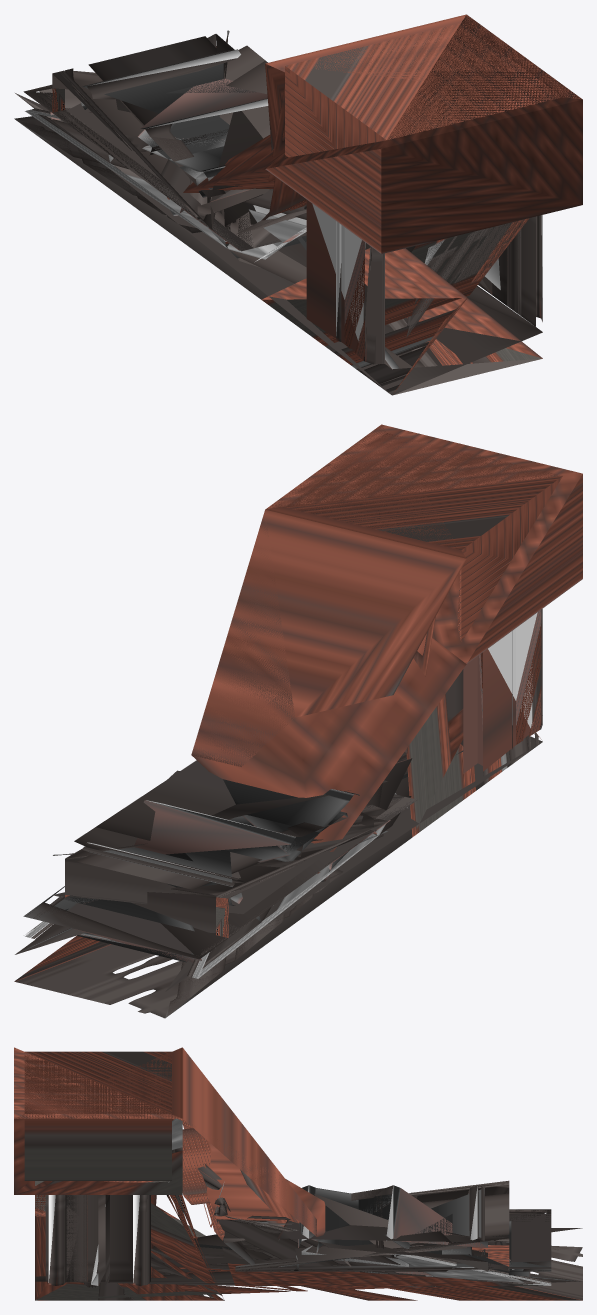
File: strand_caster_base.obj
3 renders of one model, top to bottom at view 1: azimuth 30°, elevation 25°; view 2: azimuth 150°, elevation 25°; view 3: azimuth 270°, elevation 25°, orthographic. The views are drawn at different scales.
Parts seen in each view (by area): view 1: caster; view 2: caster; view 3: caster.
Part boxes in pixels (<box>): caster: <box>14,14,582,395</box>; caster: <box>14,424,582,1018</box>; caster: <box>14,1047,582,1300</box>.
Size of the model in its own units: 2 by 2.5 by 6.75.
